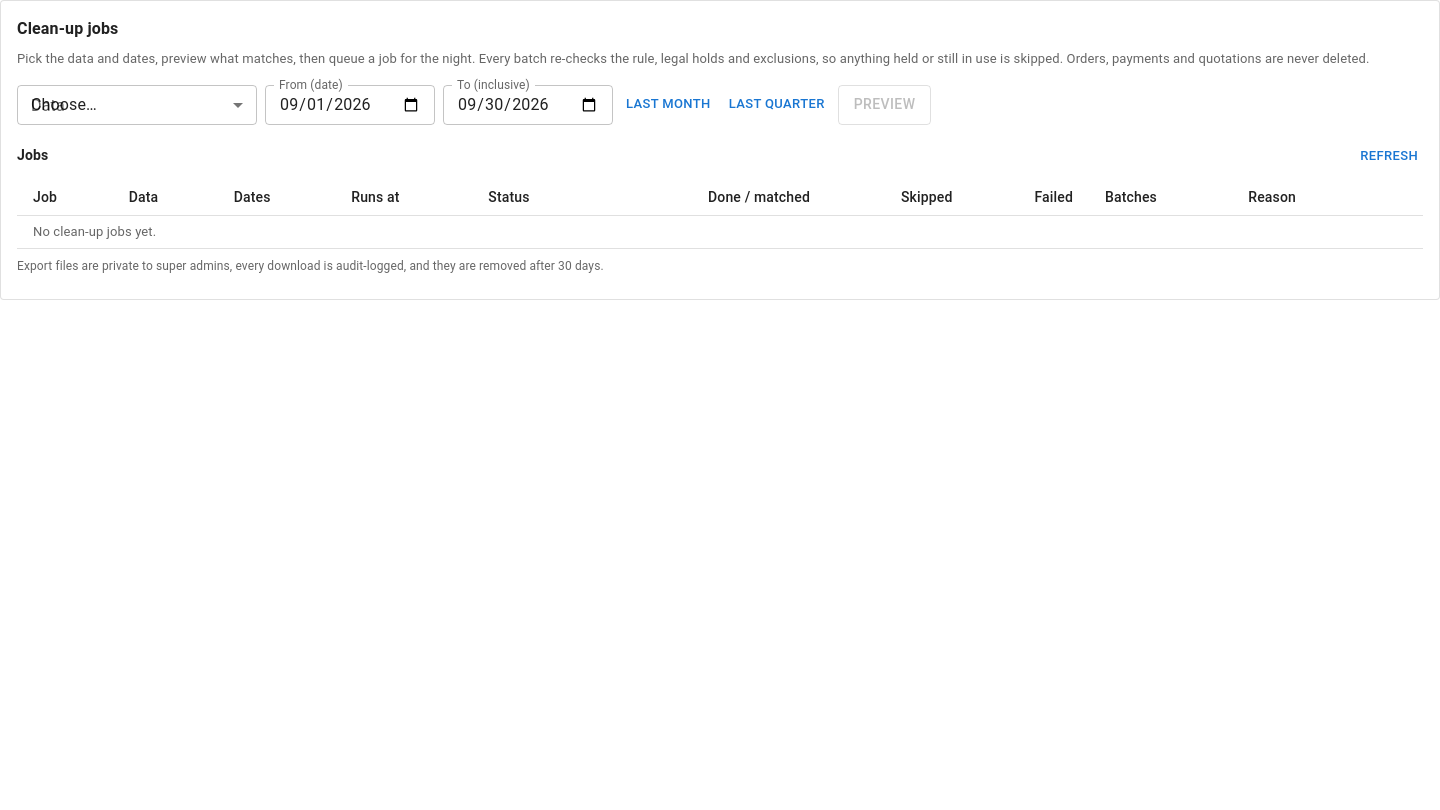
Test: CleanupJobsCard › a changed filter needs a new preview
The image size is (1440, 810).
Select "App crash reports" in the dropdown labelled "Data". click: (137, 104)
box: [17,84,257,124]
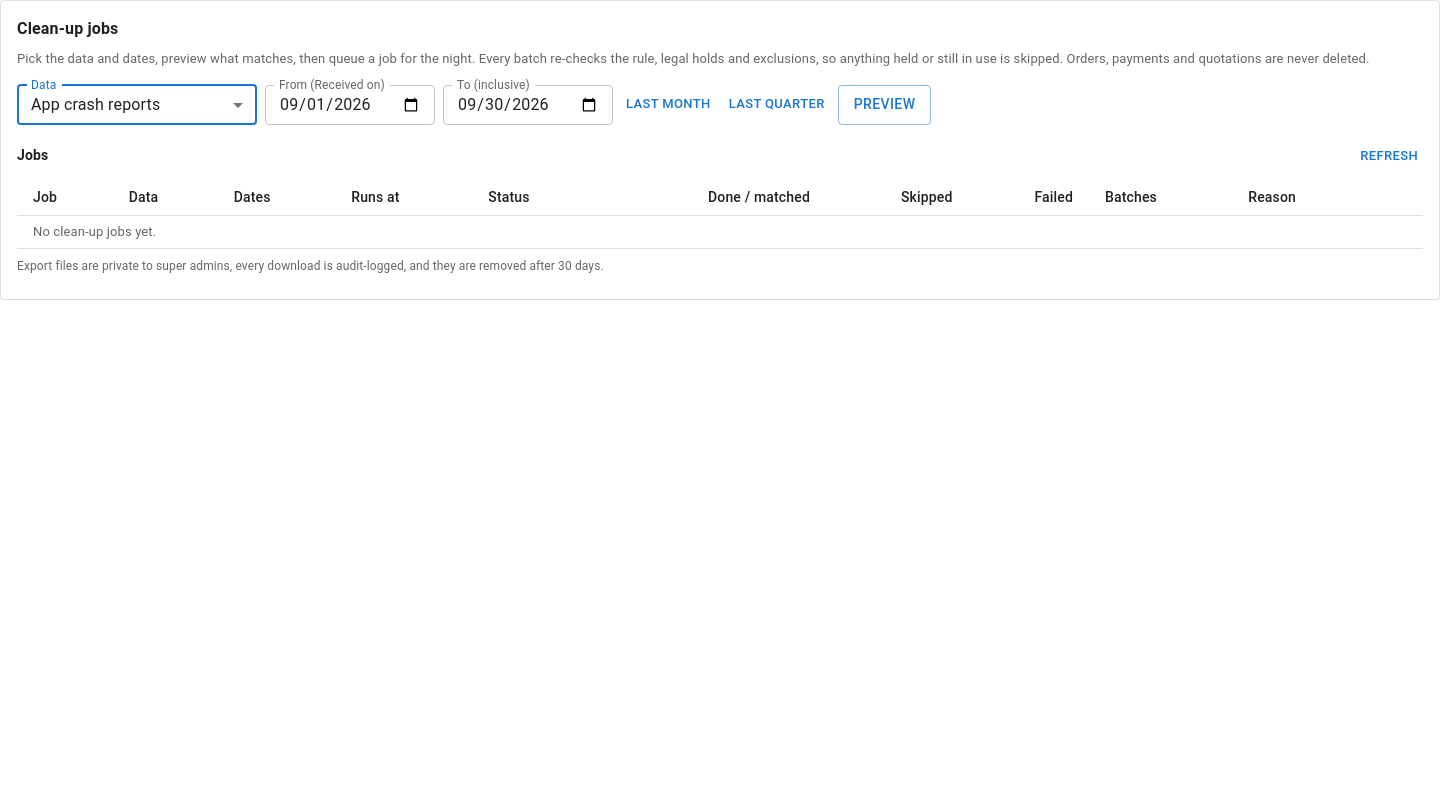
Click the button "Preview". click: (885, 104)
box: [838,84,931,124]
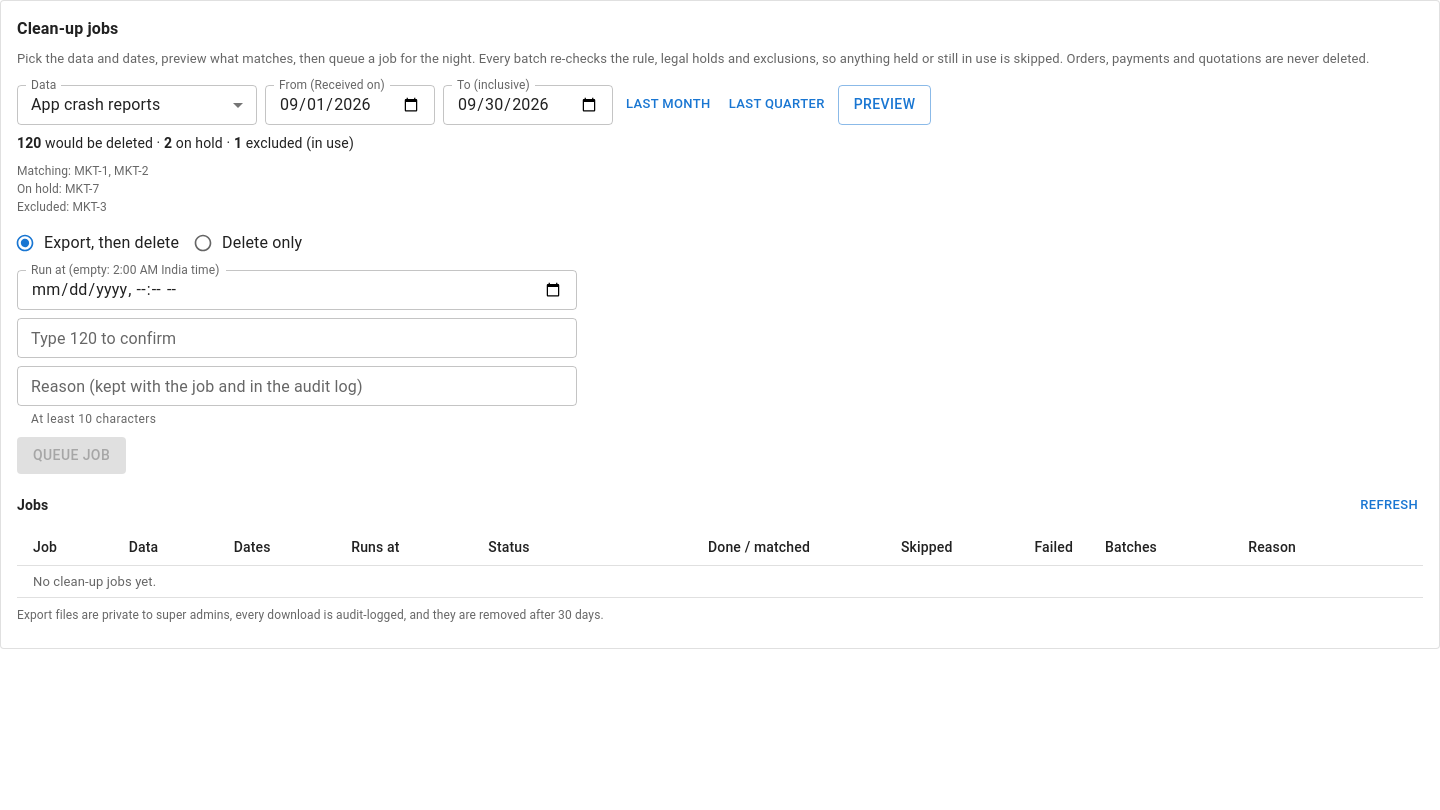
Expected: the button "Queue job" is shown, [17,437,126,474]
Click the button "Last quarter". click: (777, 104)
box: [724,84,830,124]
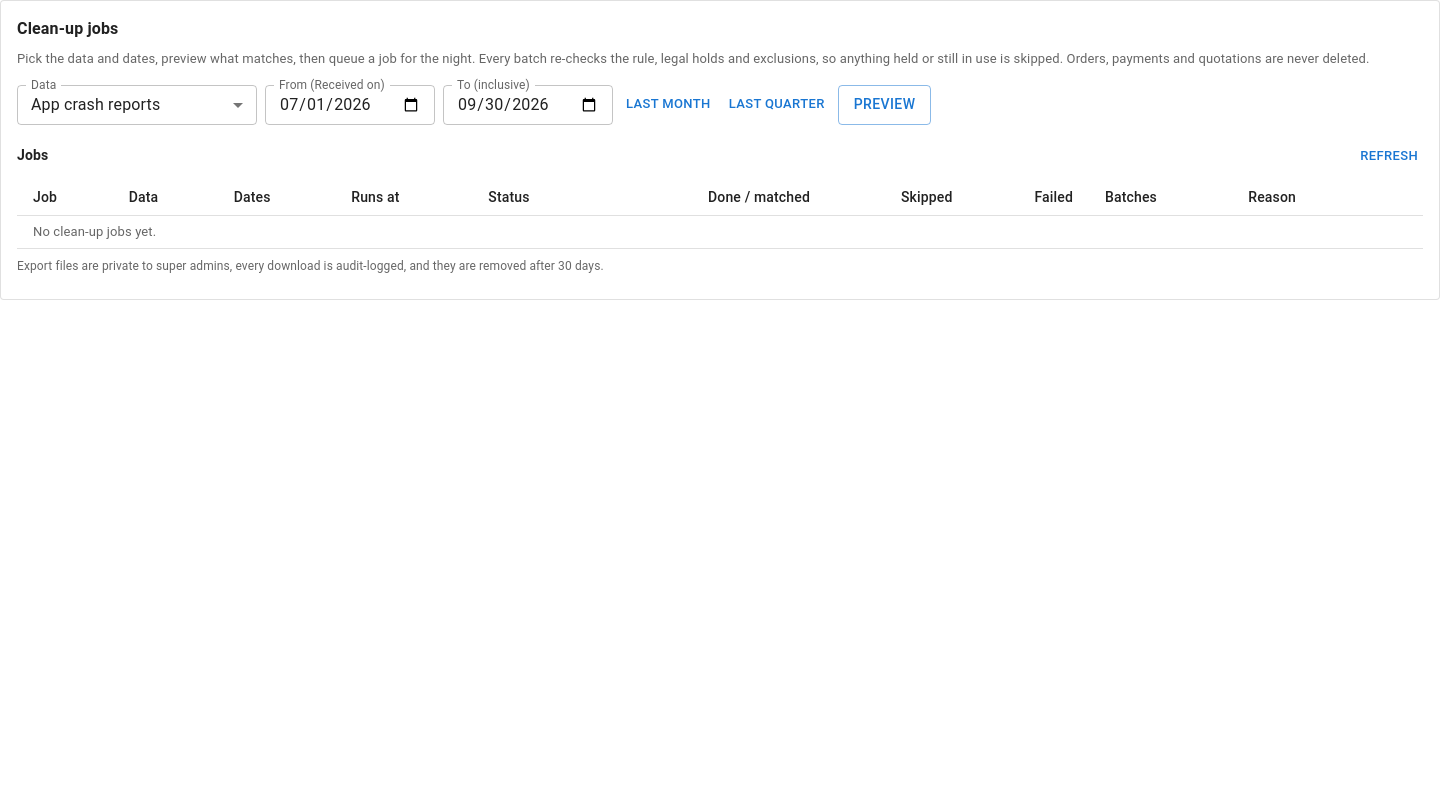
Expected: the button "Queue job" is gone
